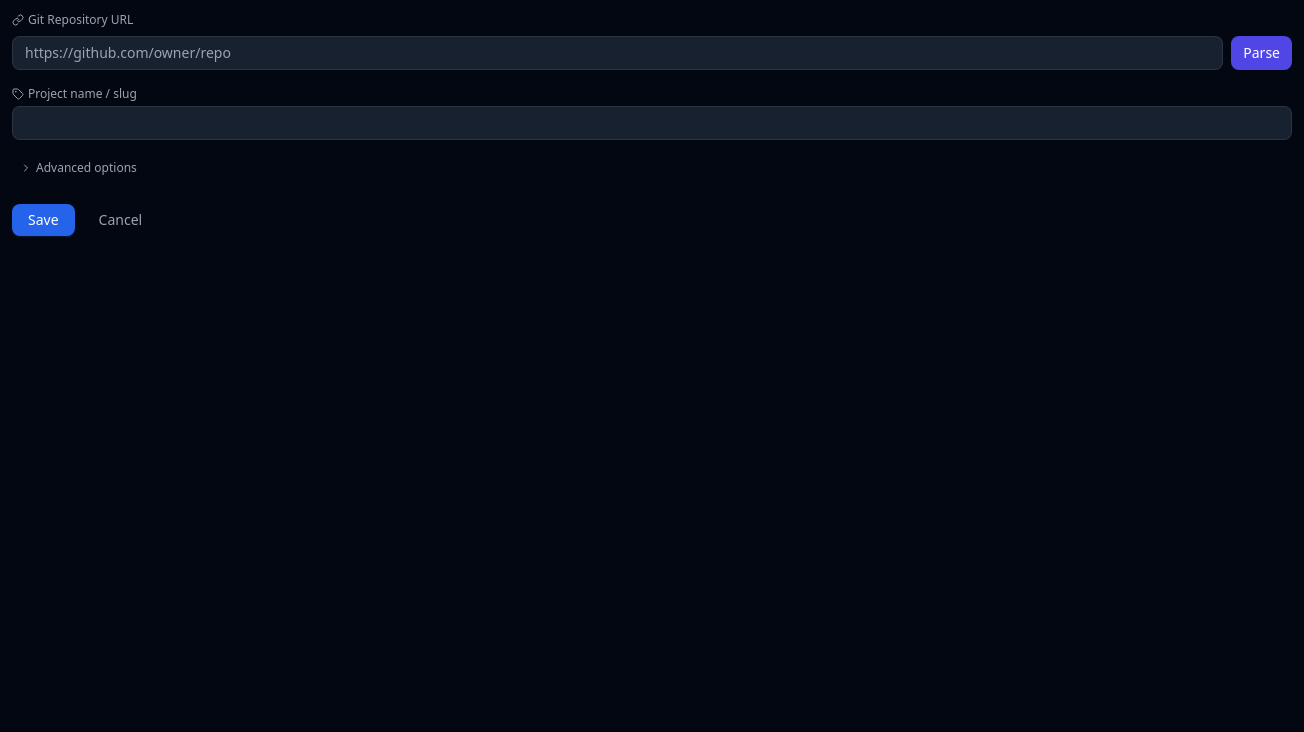
Test case: ProjectForm › expanding Advanced reveals workspace servers + repo fields in create mode
This screenshot has width=1304, height=732.
What coordinates should you click on to do the following:
click the button with test id "toggle-advanced"
I would click on:
 (78, 168)
Its box is [12,156,145,180].
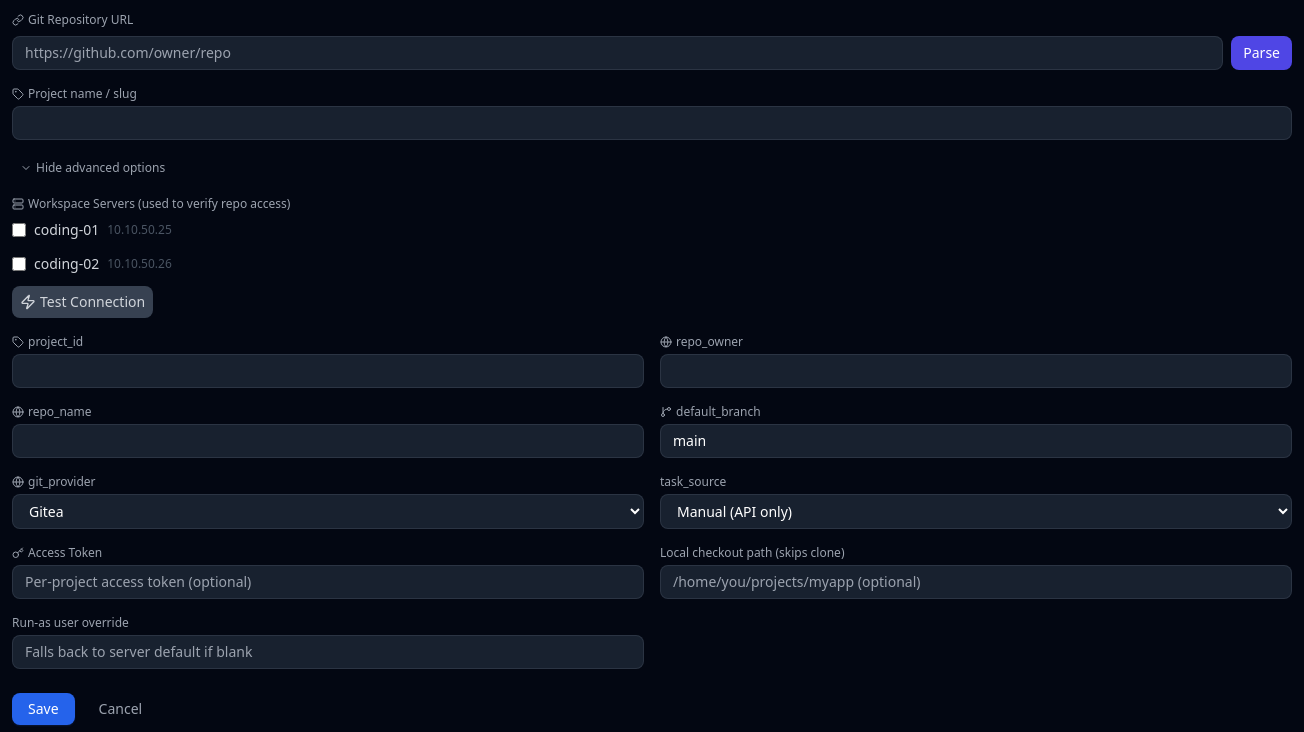
expect the text "Workspace Servers (used to verify repo access)" is shown: met, box [12,195,290,212]
expect the text "coding-01" is shown: met, box [34,220,99,240]
expect the text "coding-02" is shown: met, box [34,254,99,274]
